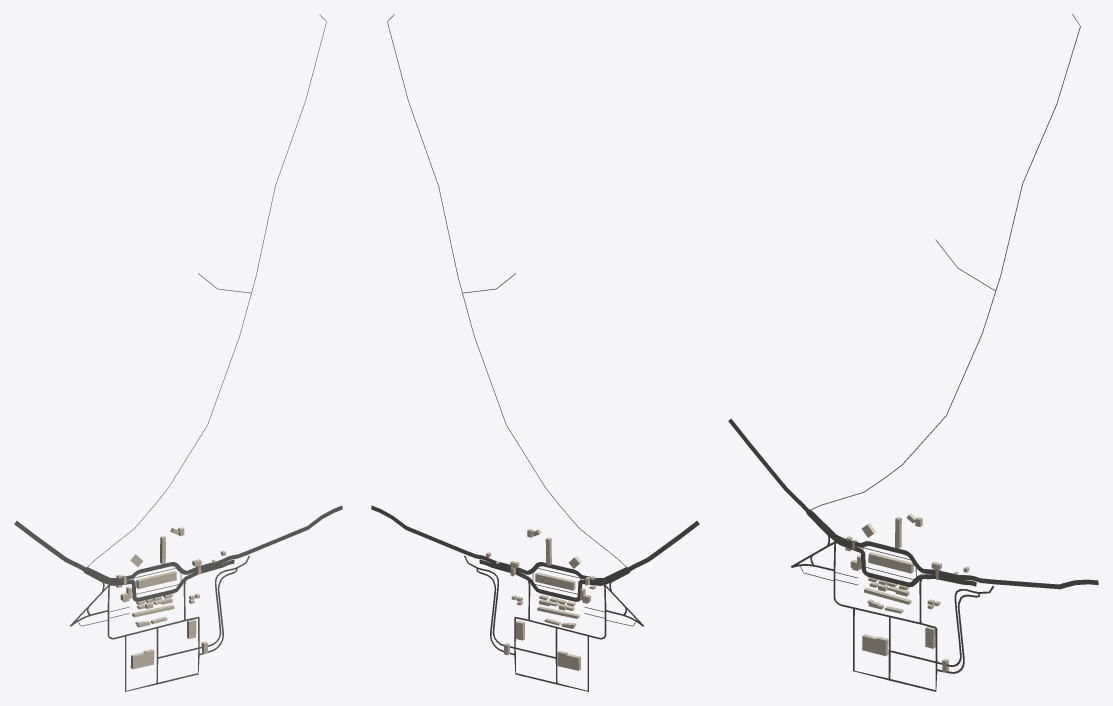
Rendered from aqaba_3497_2957.glb.
The picture shows the model from 3 angles, left to right: view 1: azimuth 30°, elevation 25°; view 2: azimuth 150°, elevation 25°; view 3: azimuth 330°, elevation 25°; orthographic projection. The views are drawn at different scales.
Parts seen in each view (by area): view 1: Road, Road .002; view 2: Road, Road .002; view 3: Road, Road .002.
Part boxes in pixels (x1=…): Road: x1=87, y1=14, x2=326, y2=567; Road .002: x1=234, y1=505, x2=342, y2=558; Road: x1=387, y1=14, x2=626, y2=567; Road .002: x1=371, y1=505, x2=479, y2=558; Road: x1=808, y1=14, x2=1080, y2=511; Road .002: x1=976, y1=577, x2=1098, y2=589.
Size of the model in its own units: 666 by 1221 by 8.7.
